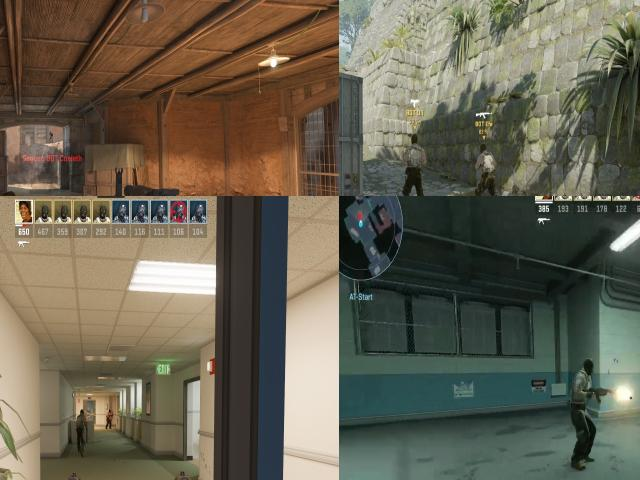CT: (49, 130, 53, 143)
CT-Head: (50, 131, 51, 132)
T: (564, 361, 601, 420), (399, 131, 428, 196), (472, 138, 501, 196), (76, 409, 85, 452), (106, 409, 112, 428)
T-Head: (580, 354, 596, 382), (409, 131, 423, 146), (478, 140, 491, 156), (80, 409, 84, 417), (108, 410, 111, 414)
